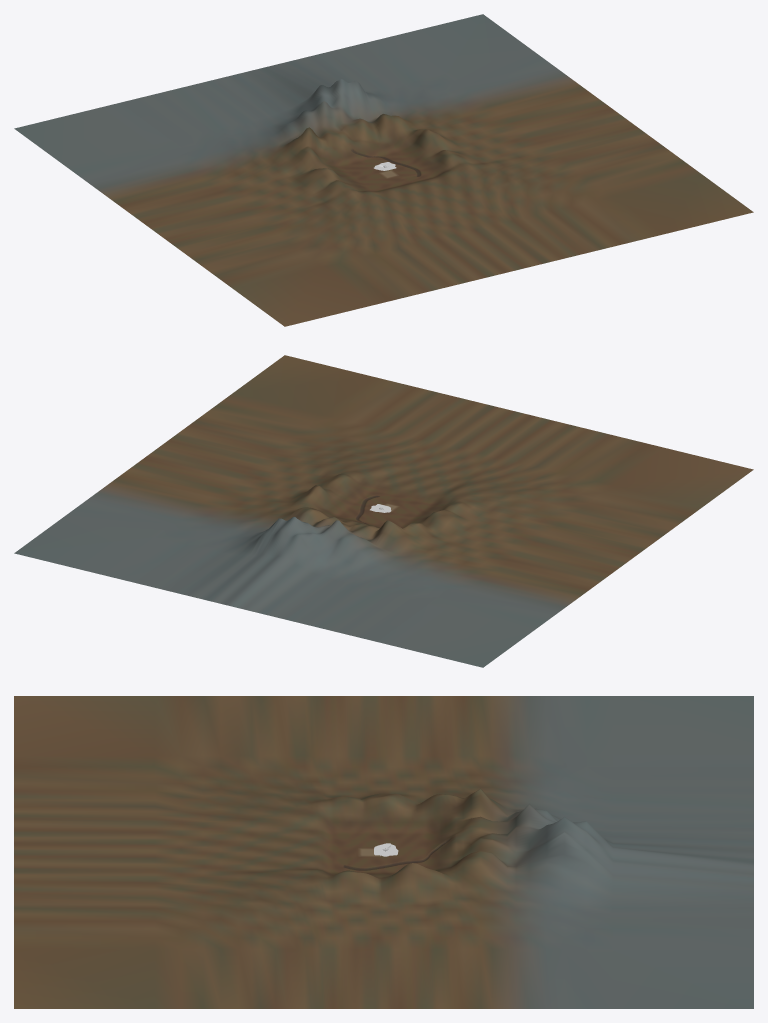
Rendered from rest.glb.
3 renders of one model, top to bottom at view 1: azimuth 30°, elevation 25°; view 2: azimuth 150°, elevation 25°; view 3: azimuth 270°, elevation 25°, orthographic. The views are drawn at different scales.
Visible parts, largest first — view 1: models:ntc3-xx; view 2: models:ntc3-xx; view 3: models:ntc3-xx.
Part boxes in pixels (x1,y1,x2,y2): models:ntc3-xx: (14,14,753,326); models:ntc3-xx: (14,355,753,667); models:ntc3-xx: (14,696,753,1008).
Bounding box in the file's own units: 840 × 64.7 × 840.
